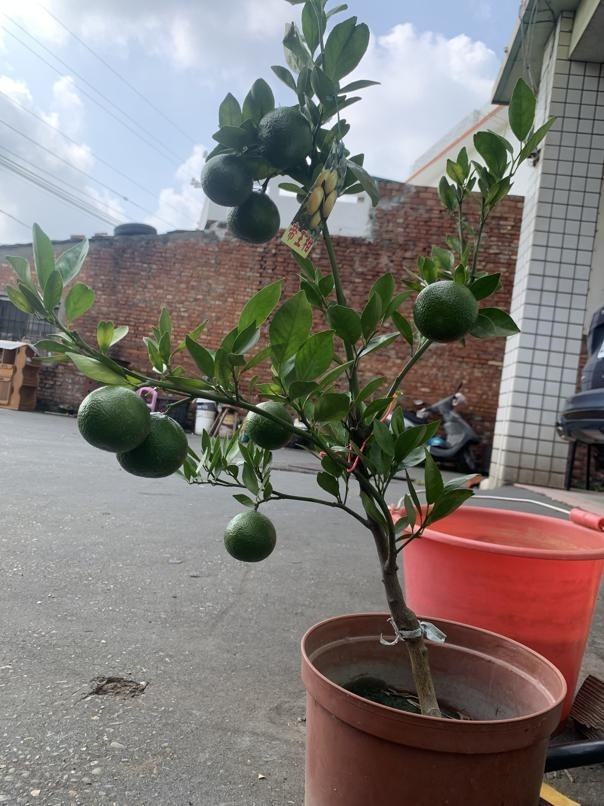Tangerine: (77, 379, 150, 451), (116, 414, 187, 478), (412, 280, 479, 345), (220, 504, 281, 566), (259, 104, 313, 167), (200, 150, 252, 207)
